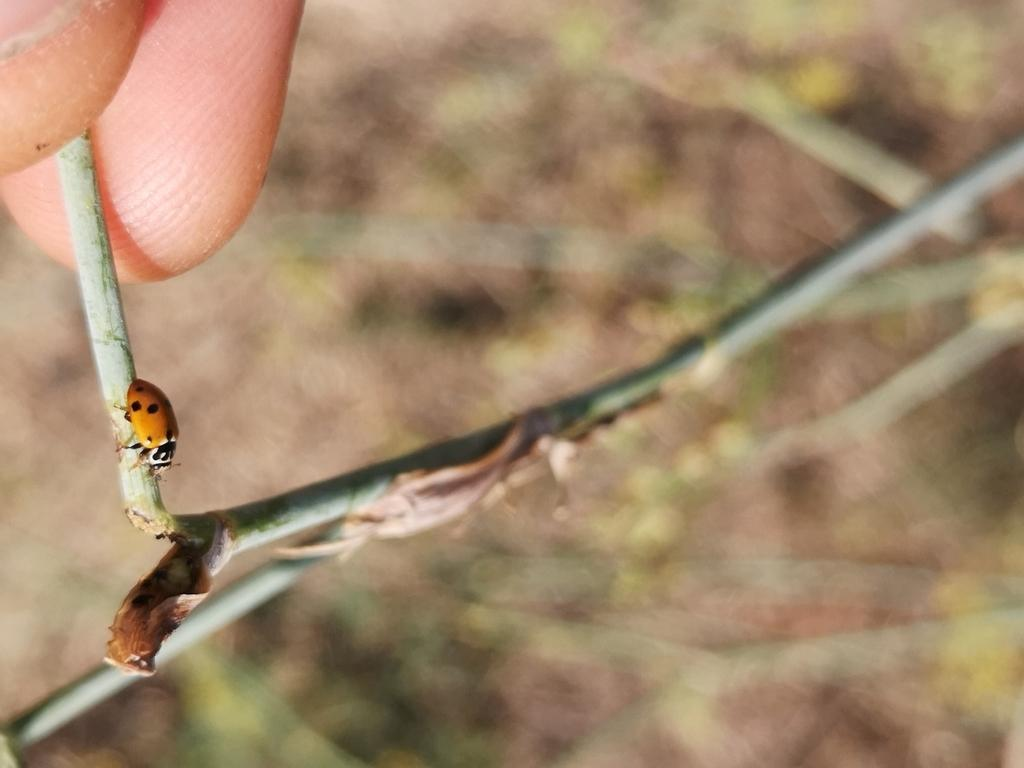ladybug: (113, 377, 187, 485)
